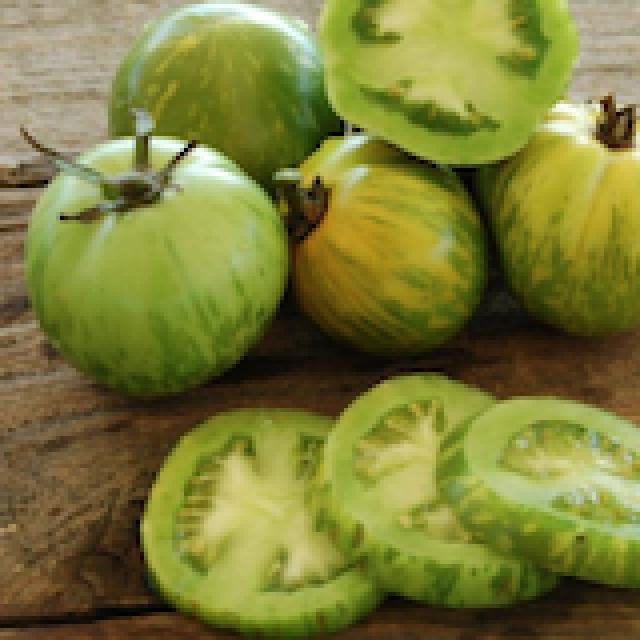yesil: (22, 46, 629, 417)
